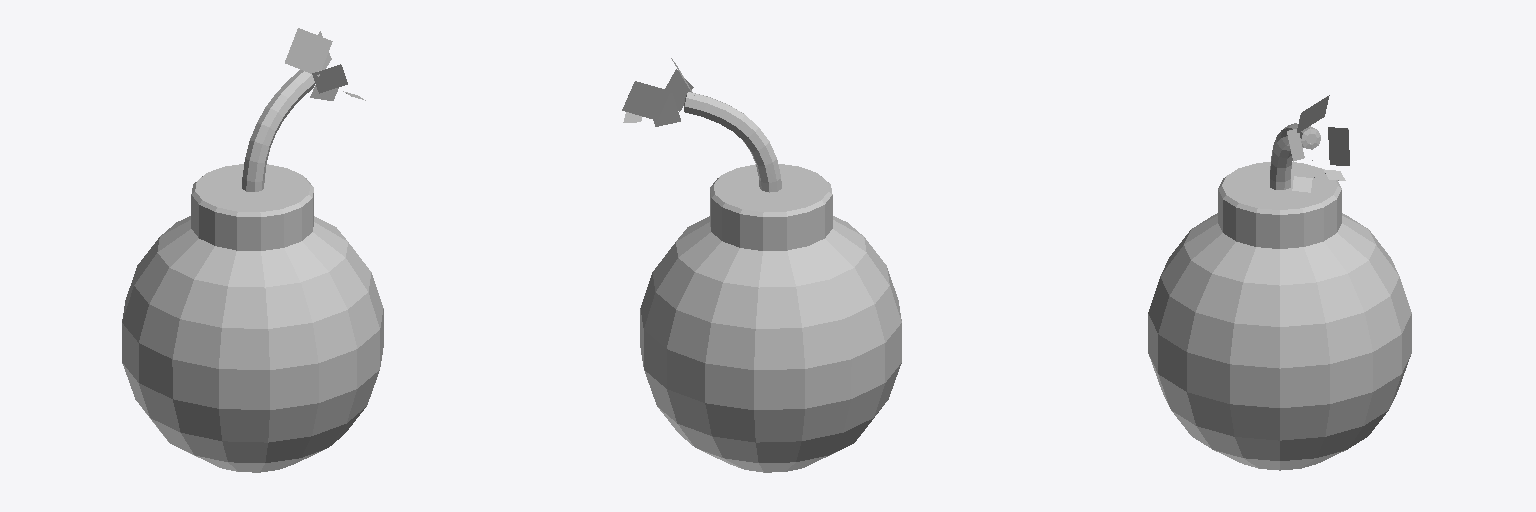
File: bomb_000022.obj
The picture shows the model from 3 angles: view 1: azimuth 30°, elevation 25°; view 2: azimuth 150°, elevation 25°; view 3: azimuth 270°, elevation 25°; orthographic projection.
Visible parts, largest first — view 1: Sphere, NurbsPath, Plane_5.001_Mesh.001; view 2: Sphere, NurbsPath, Plane_5.001_Mesh.001; view 3: Sphere, Plane_5.001_Mesh.001, NurbsPath.
Part boxes in pixels (x1,y1,x2,y2): Sphere: (122,164,383,472); NurbsPath: (242,70,315,191); Plane_5.001_Mesh.001: (285,28,365,100); Sphere: (640,164,901,472); NurbsPath: (684,92,781,192); Plane_5.001_Mesh.001: (622,58,694,126); Sphere: (1148,162,1411,470); Plane_5.001_Mesh.001: (1287,95,1349,192); NurbsPath: (1270,123,1320,189).
Bounding box in the file's own units: 0.8643 × 1.36 × 0.8409.